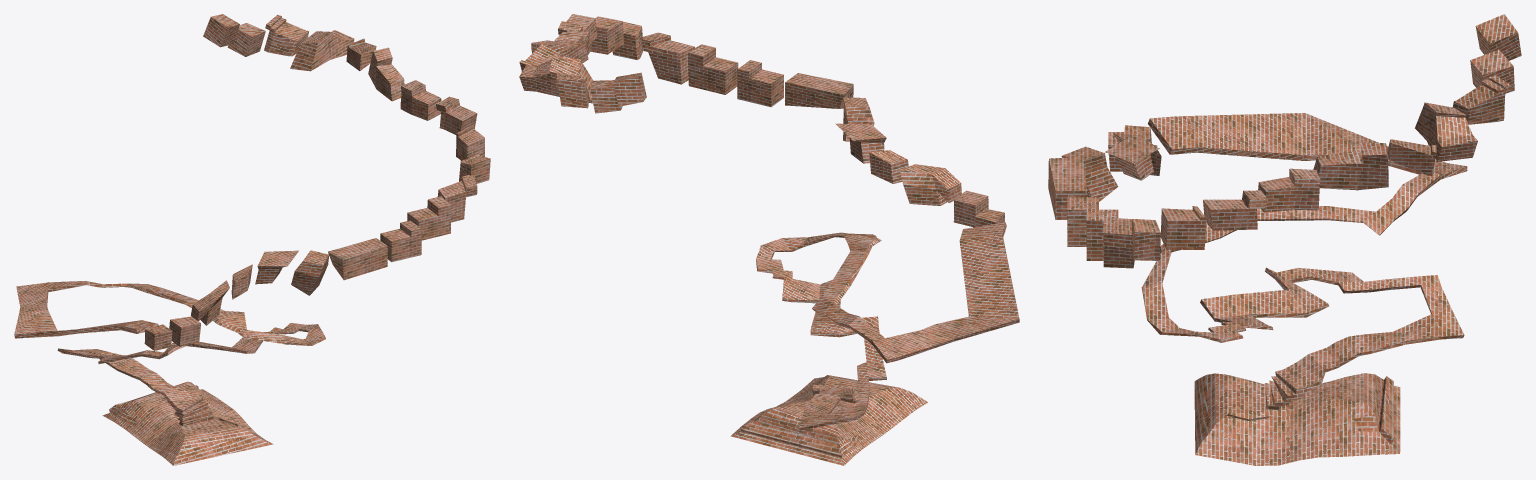
The model's file is stayrs.gltf.
3 renders of one model, left to right at view 1: azimuth 30°, elevation 25°; view 2: azimuth 150°, elevation 25°; view 3: azimuth 270°, elevation 25°, orthographic. The views are drawn at different scales.
Parts seen in each view (by area): view 1: Cube; view 2: Cube; view 3: Cube.
Boxes of the visible parts, bbox=[...] form: Cube: bbox=[14, 14, 490, 465]; Cube: bbox=[519, 14, 1019, 465]; Cube: bbox=[1048, 14, 1521, 465].
Size of the model in its own units: 65.45 by 49.73 by 44.33.
Materials: 1 (1 with a texture image).
